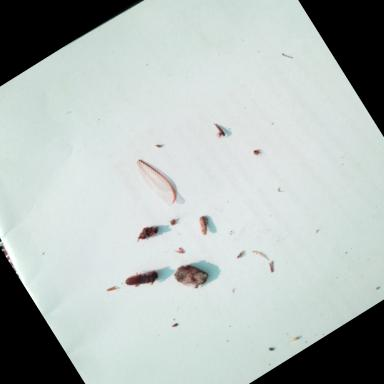pbw: (190, 210, 218, 239)
